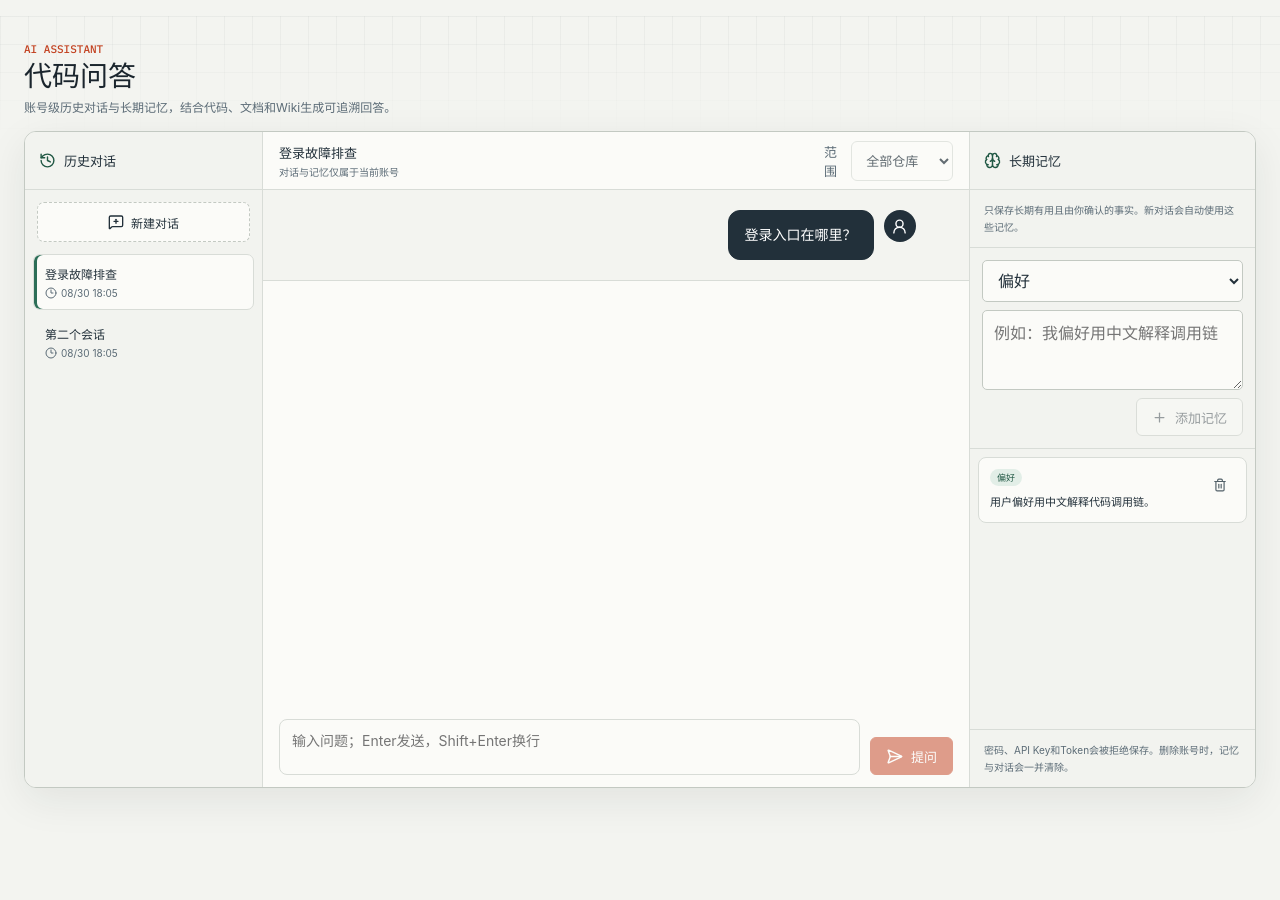
ChatView account workspace › prevents session navigation while a reply is in flight
Type "正在回答的问题" into the text box named "提问内容" at (570, 747), box left=279, top=719, right=860, bottom=775
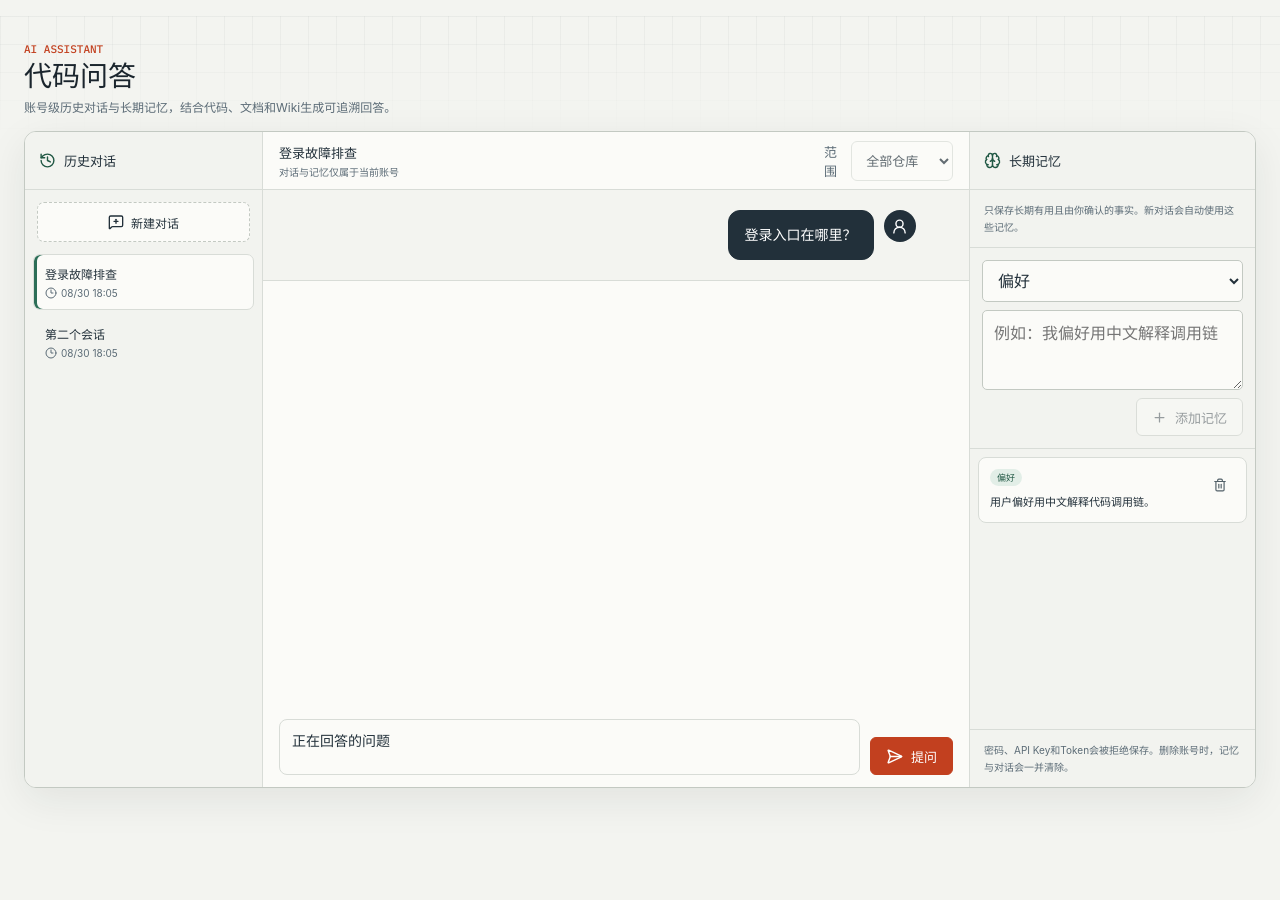
Submit the form with class "chat-composer", box left=263, top=280, right=969, bottom=787
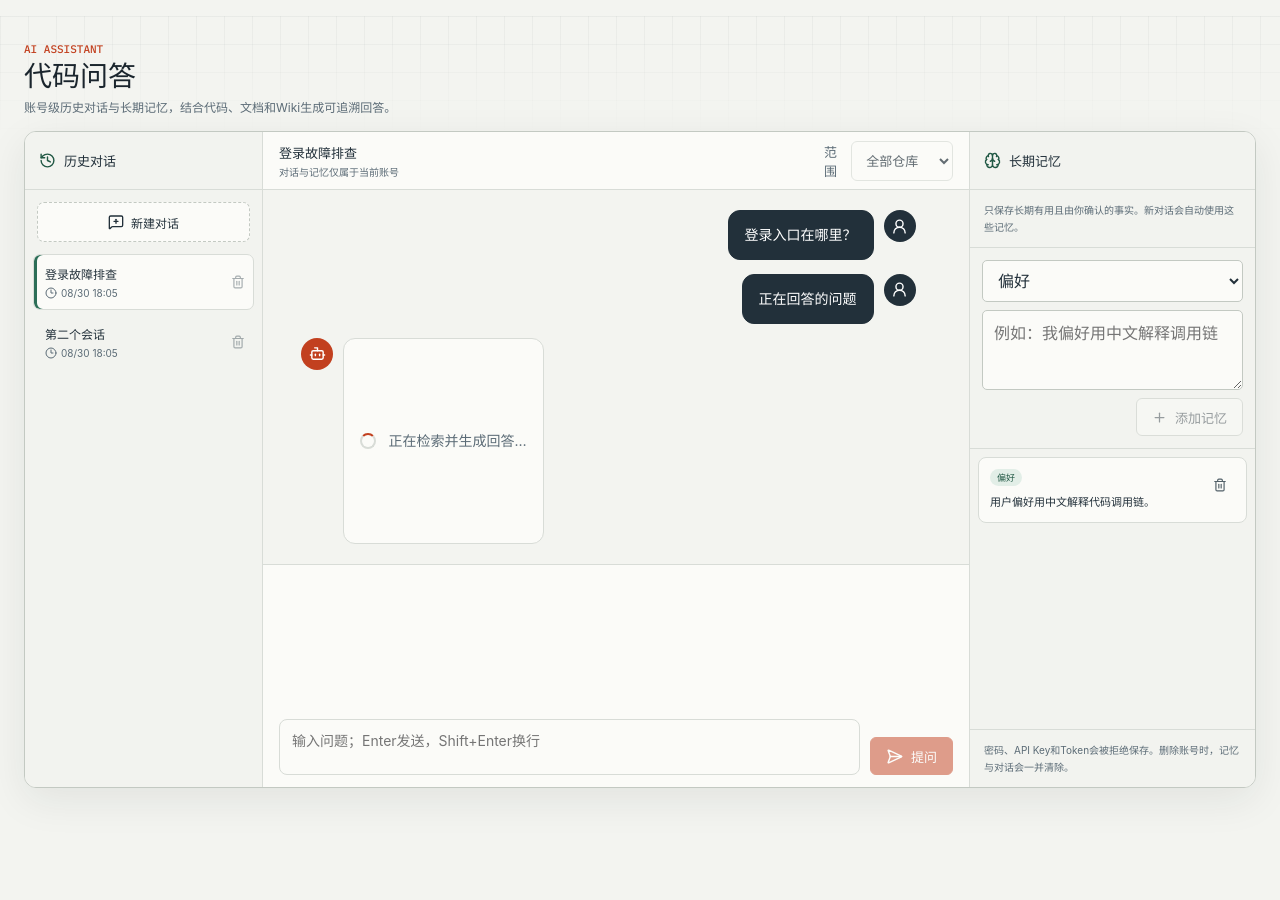
Expected: the button with class "chat-new-session" is disabled, left=37, top=202, right=250, bottom=242
Click the button with class "chat-session-select" showing "第二个会话 08/30 18:05" at (126, 342), box left=34, top=315, right=219, bottom=369
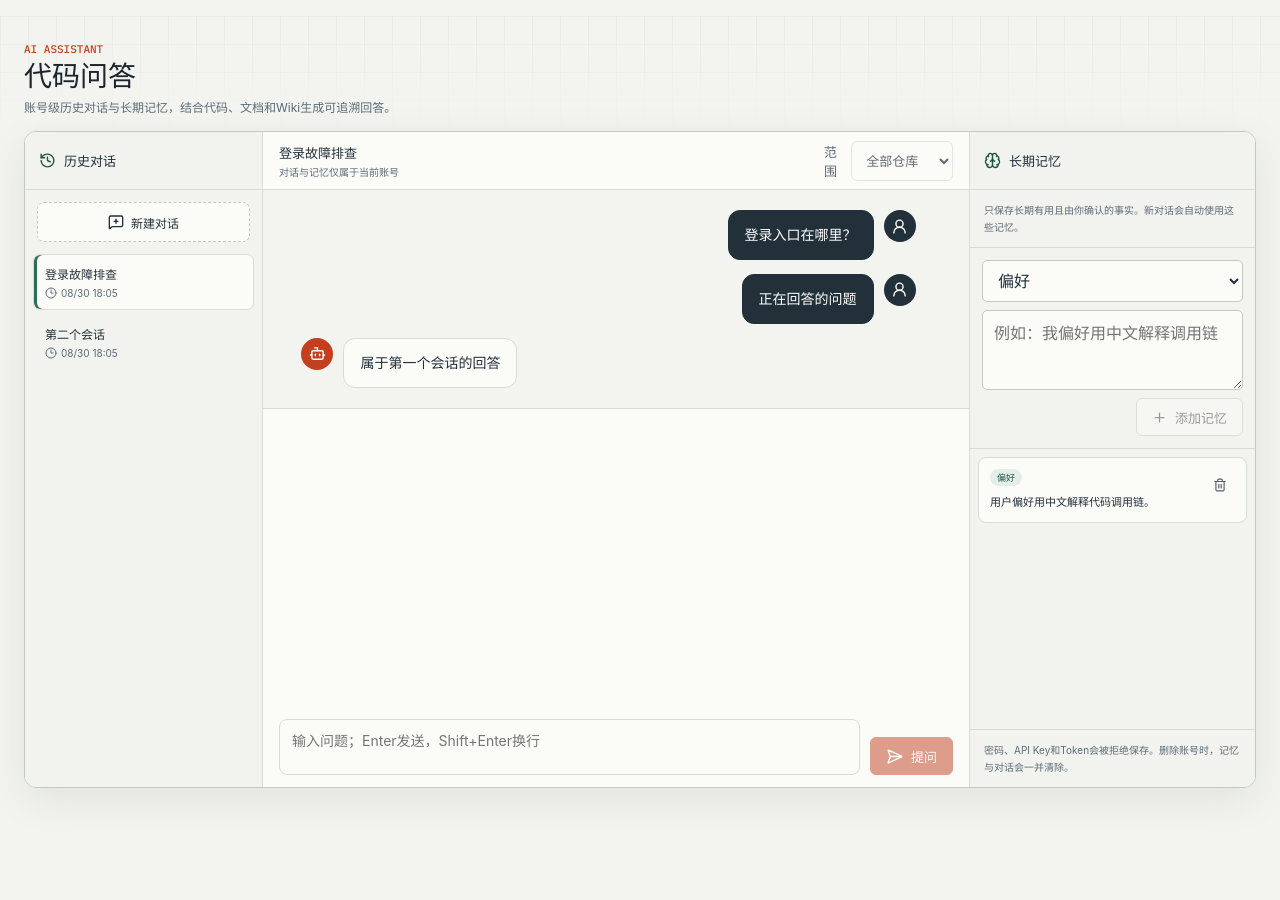
Expected: the text "登录故障排查" next to "范围" is shown, left=279, top=145, right=357, bottom=161
Result: the element with class "chat-thread" shows "属于第一个会话的回答" at left=360, top=354, right=500, bottom=371
